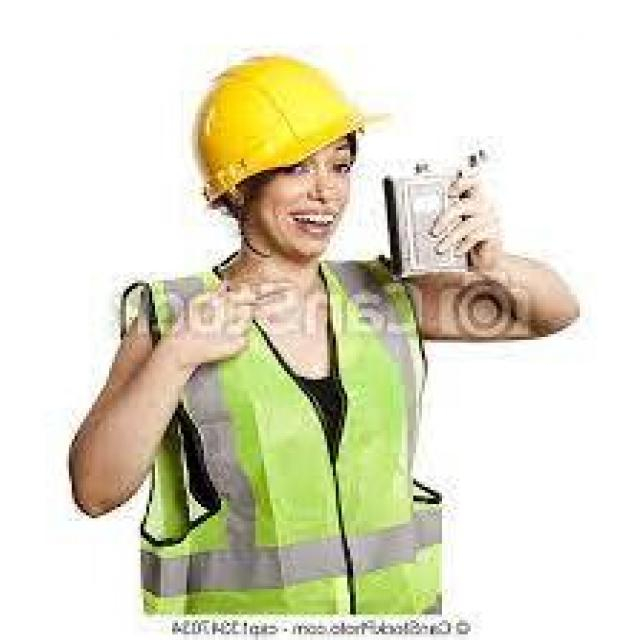Reflective-Jacket: (126, 255, 465, 637)
Safety-Helmet: (181, 45, 399, 207)
